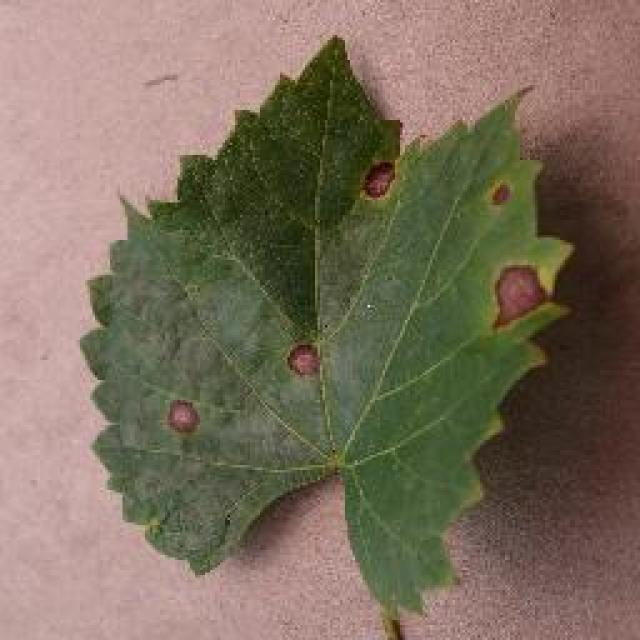Grape___Black_rot: (69, 27, 585, 626)
